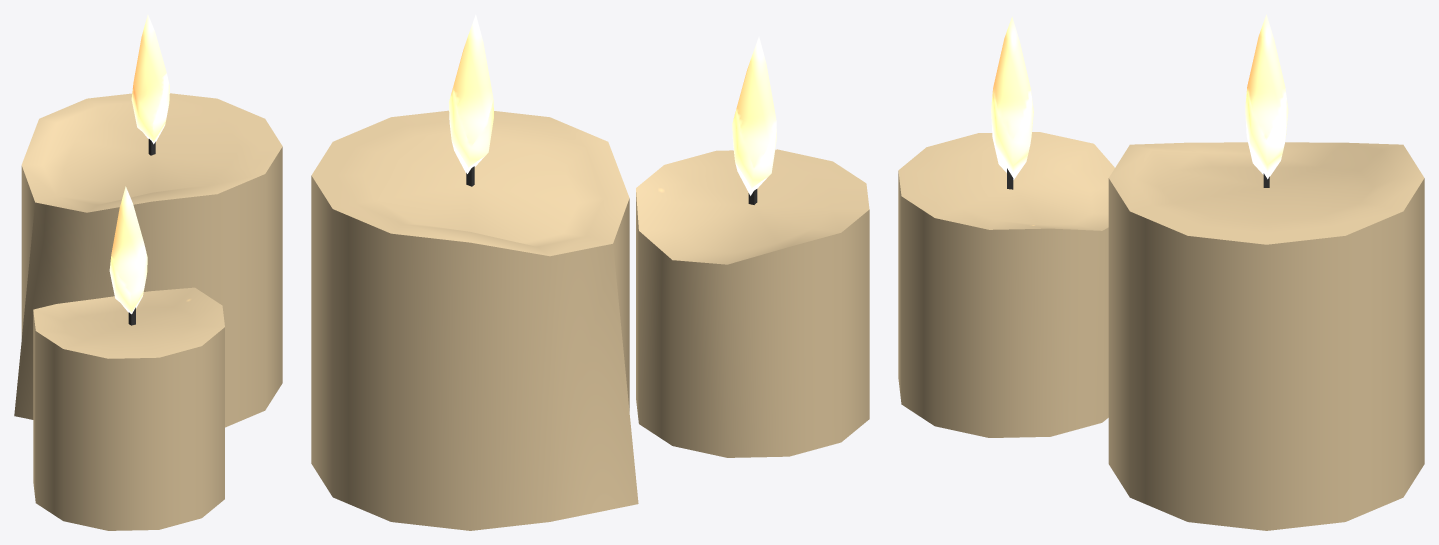
File: candles.glb
The picture shows the model from 3 angles, left to right: view 1: azimuth 30°, elevation 25°; view 2: azimuth 150°, elevation 25°; view 3: azimuth 270°, elevation 25°; orthographic projection. The views are drawn at different scales.
Visible parts, largest first — view 1: pCylinder1, pCylinder2, pCube1, pCube2; view 2: pCylinder1, pCylinder2, pCube1, pCube2; view 3: pCylinder1, pCylinder2, pCube1, pCube2.
Boxes of the visible parts, x1,y1,x2,y2 form: pCylinder1: [14, 93, 282, 427]; pCylinder2: [33, 287, 224, 530]; pCube1: [131, 14, 169, 144]; pCube2: [109, 186, 147, 314]; pCylinder1: [311, 110, 638, 530]; pCylinder2: [636, 149, 869, 457]; pCube1: [449, 14, 493, 173]; pCube2: [732, 36, 776, 195]; pCylinder1: [1108, 142, 1424, 530]; pCylinder2: [898, 132, 1114, 437]; pCube1: [1245, 14, 1288, 179]; pCube2: [991, 16, 1033, 179].
Size of the model in its own units: 0.2979 by 0.3258 by 0.347.
1 material, 1 textured.
